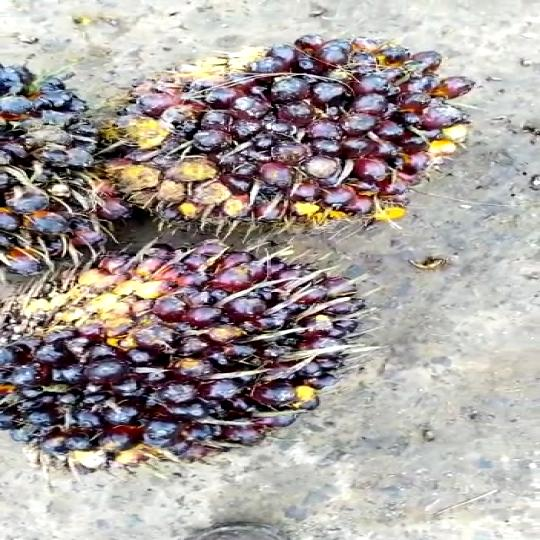mentah: (0, 226, 362, 474), (93, 31, 475, 245)
